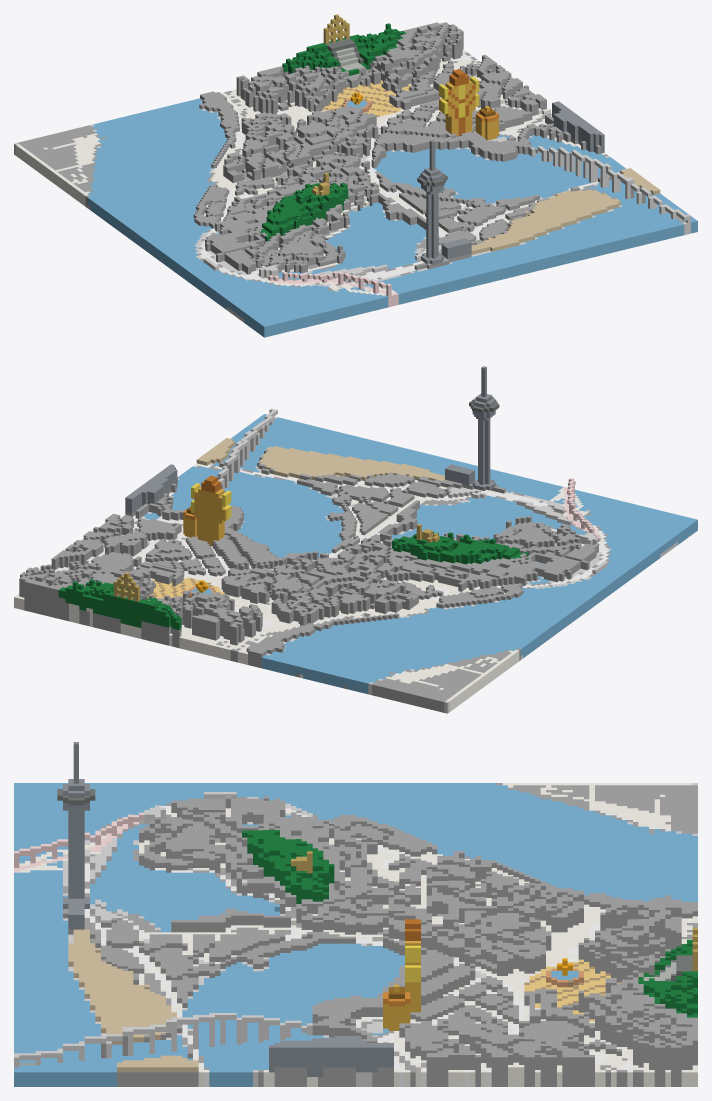
File: 200607 macau ver3-1.obj
3 renders of one model, top to bottom at view 1: azimuth 30°, elevation 25°; view 2: azimuth 150°, elevation 25°; view 3: azimuth 270°, elevation 25°, orthographic. The views are drawn at different scales.
Size of the model in its own units: 12.6 by 3.7 by 12.6.
Materials: 1 (1 with a texture image).
